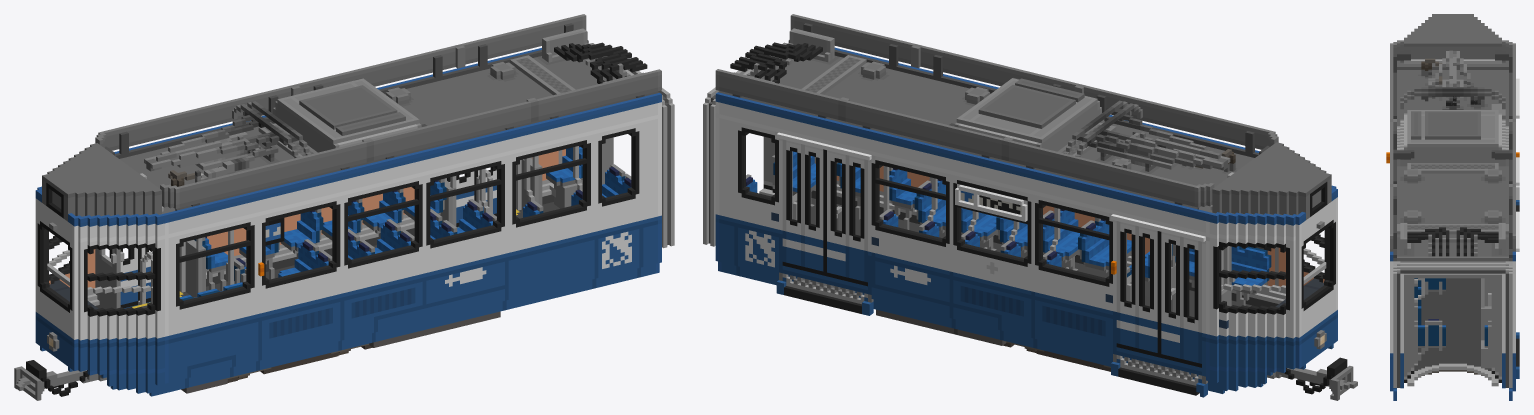
File: tram20001bkfront.obj
3 renders of one model, left to right at view 1: azimuth 30°, elevation 25°; view 2: azimuth 150°, elevation 25°; view 3: azimuth 270°, elevation 25°, orthographic. The views are drawn at different scales.
Parts seen in each view (by area): view 1: FRAME, INTERIOR, WIDGET_23_TL_1.9375_Y_CG_panto1_LABEL_Pantograph, WIDGET_25_TL_1.9375_Y_CG_panto1_LABEL_Pantograph, DOOR_21_INTERIOR, DOOR_2_EXTERNAL_CG_df_TL_-0.625_X, WIDGET_22_CG_panto1_LABEL_Pantograph, BOGEY_FRONT, WIDGET_21_CG_panto1_LABEL_Pantograph, DOOR_12_EXTERNAL_CG_dr_TL_-0.625_X; view 2: FRAME, INTERIOR, DOOR_11_CG_dr, DOOR_4_CG_df, DOOR_1_CG_df, DOOR_14_CG_dr, DOOR_12_EXTERNAL_CG_dr_TL_-0.625_X, DOOR_2_EXTERNAL_CG_df_TL_-0.625_X, DOOR_3_EXTERNAL_CG_df_TL_0.625_X, DOOR_13_EXTERNAL_CG_dr_TL_0.625_X, WIDGET_1_CG_df, WIDGET_11_CG_dr (+10 smaller); view 3: FRAME, INTERIOR, WIDGET_25_TL_1.9375_Y_CG_panto1_LABEL_Pantograph, WIDGET_23_TL_1.9375_Y_CG_panto1_LABEL_Pantograph, WIDGET_22_CG_panto1_LABEL_Pantograph, WIDGET_21_CG_panto1_LABEL_Pantograph, WIDGET_24_TL_1.9375_Y_CG_panto1_LABEL_Pantograph.
Part boxes in pixels (x1,y1,x2,y2): FRAME: [14, 14, 674, 400]; INTERIOR: [43, 133, 633, 310]; WIDGET_23_TL_1.9375_Y_CG_panto1_LABEL_Pantograph: [144, 115, 279, 168]; WIDGET_25_TL_1.9375_Y_CG_panto1_LABEL_Pantograph: [232, 101, 311, 158]; DOOR_21_INTERIOR: [97, 248, 124, 308]; DOOR_2_EXTERNAL_CG_df_TL_-0.625_X: [120, 247, 137, 308]; WIDGET_22_CG_panto1_LABEL_Pantograph: [156, 132, 276, 161]; BOGEY_FRONT: [227, 343, 372, 382]; WIDGET_21_CG_panto1_LABEL_Pantograph: [146, 147, 247, 171]; DOOR_12_EXTERNAL_CG_dr_TL_-0.625_X: [456, 171, 474, 226]; FRAME: [703, 14, 1357, 400]; INTERIOR: [744, 133, 1329, 317]; DOOR_11_CG_dr: [845, 155, 864, 285]; DOOR_4_CG_df: [1120, 222, 1138, 352]; DOOR_1_CG_df: [1180, 236, 1198, 366]; DOOR_14_CG_dr: [786, 140, 804, 270]; DOOR_12_EXTERNAL_CG_dr_TL_-0.625_X: [827, 150, 845, 280]; DOOR_2_EXTERNAL_CG_df_TL_-0.625_X: [1161, 232, 1179, 362]; DOOR_3_EXTERNAL_CG_df_TL_0.625_X: [1139, 226, 1157, 356]; DOOR_13_EXTERNAL_CG_dr_TL_0.625_X: [805, 145, 823, 275]; WIDGET_1_CG_df: [1116, 347, 1201, 385]; WIDGET_11_CG_dr: [782, 265, 867, 304]; FRAME: [1386, 14, 1519, 400]; INTERIOR: [1404, 273, 1501, 386]; WIDGET_25_TL_1.9375_Y_CG_panto1_LABEL_Pantograph: [1400, 87, 1505, 109]; WIDGET_23_TL_1.9375_Y_CG_panto1_LABEL_Pantograph: [1428, 51, 1477, 96]; WIDGET_22_CG_panto1_LABEL_Pantograph: [1449, 50, 1452, 105]; WIDGET_21_CG_panto1_LABEL_Pantograph: [1453, 51, 1456, 100]; WIDGET_24_TL_1.9375_Y_CG_panto1_LABEL_Pantograph: [1456, 61, 1477, 104].
Bounding box in the file's own units: 10.44 × 3.75 × 2.38.
Materials: 1 (1 with a texture image).
